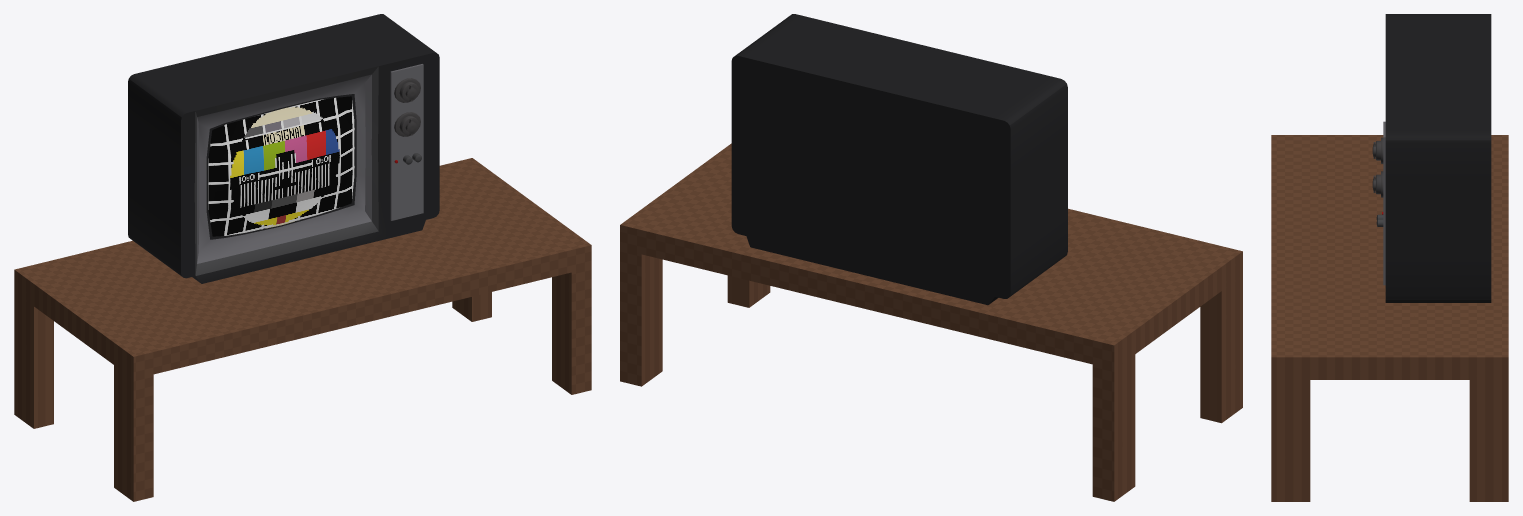
3 views of the same model, side by side, from view 1: azimuth 30°, elevation 25°; view 2: azimuth 150°, elevation 25°; view 3: azimuth 270°, elevation 25° (orthographic). The views are drawn at different scales.
Visible parts, largest first — view 1: Tv, sehpa_pixel; view 2: Tv, sehpa_pixel; view 3: sehpa_pixel, Tv.
Boxes of the visible parts, x1,y1,x2,y2 form: Tv: (128,14,439,283); sehpa_pixel: (14,158,591,501); Tv: (731,14,1067,305); sehpa_pixel: (620,143,1242,501); sehpa_pixel: (1271,135,1508,501); Tv: (1372,14,1491,302).
Size of the model in its own units: 283 by 189 by 127.
